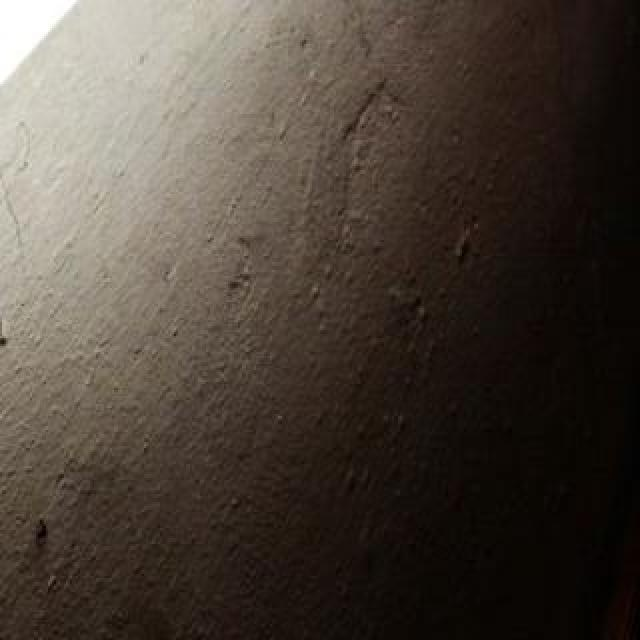fluorescent tube: (0, 0, 640, 282)
